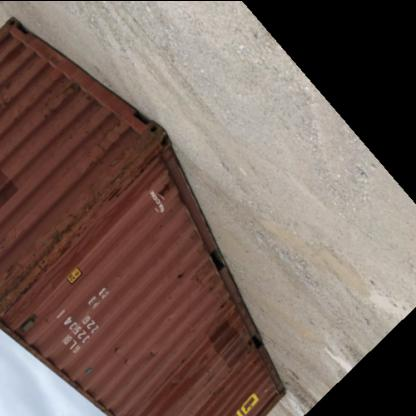Damage: (0, 214, 98, 302), (85, 134, 169, 214), (32, 76, 85, 124), (167, 348, 216, 398), (223, 329, 254, 369), (198, 282, 228, 322), (106, 343, 132, 371), (161, 266, 190, 285), (141, 344, 159, 363)
